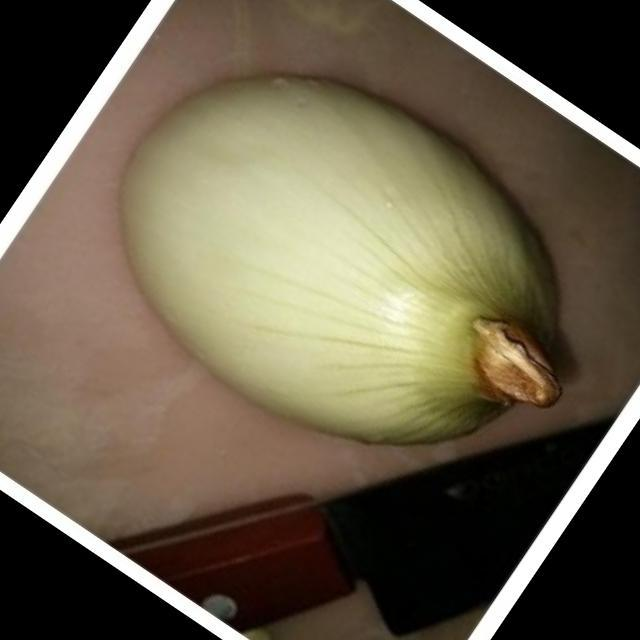Onion: (117, 70, 556, 439)
